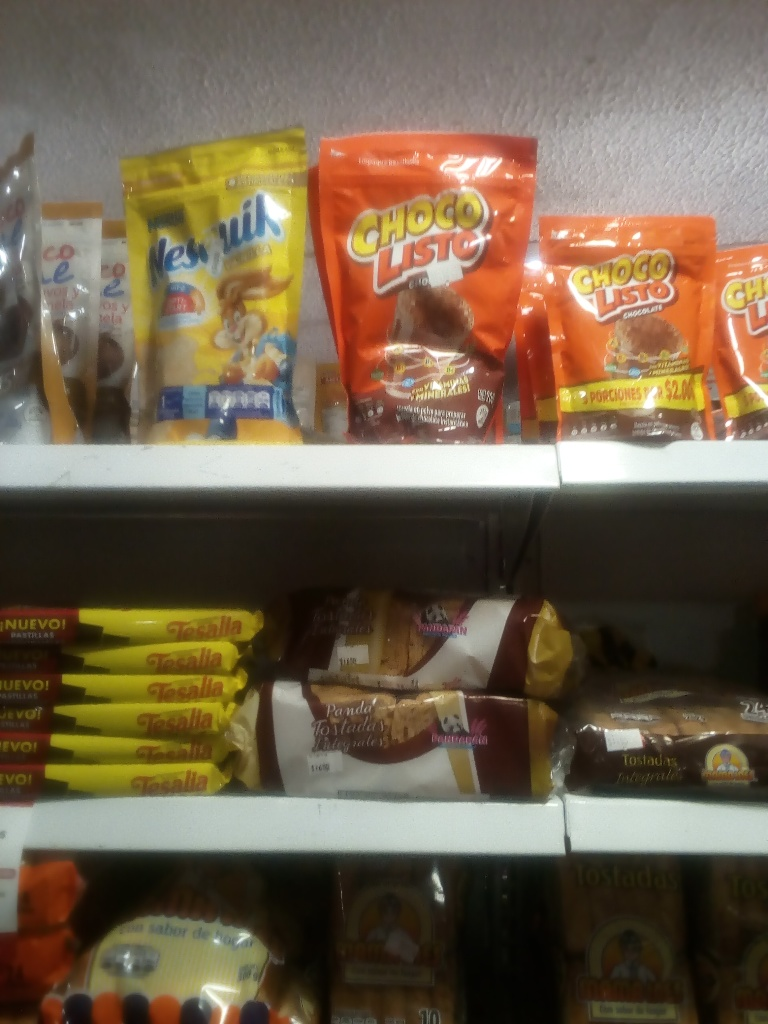COL0170306DYP20000: (116, 125, 311, 452)
